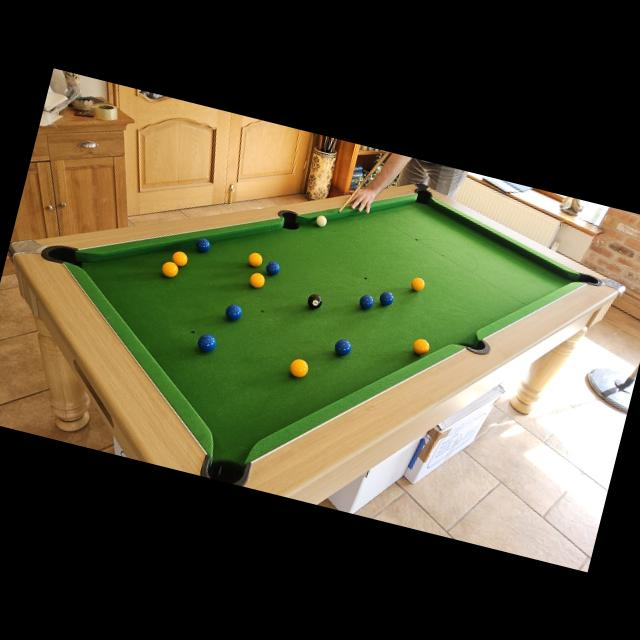Ball: (288, 358, 310, 380), (196, 332, 218, 354), (332, 336, 352, 358), (223, 302, 244, 322), (410, 337, 430, 357), (160, 260, 178, 278), (248, 272, 266, 290), (170, 250, 188, 268), (306, 292, 324, 310), (246, 250, 263, 268), (194, 236, 212, 253), (408, 276, 425, 293), (358, 292, 374, 310), (378, 290, 394, 308), (264, 260, 280, 276), (314, 214, 328, 228)
